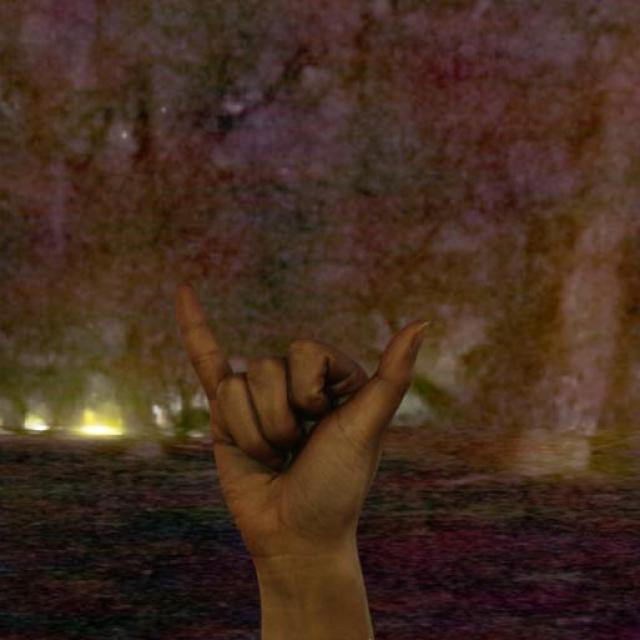Y: (169, 277, 431, 563)
